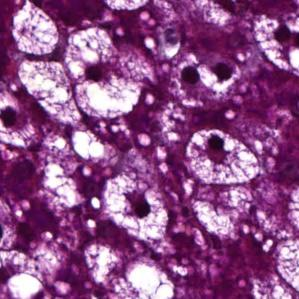ballooning: (61, 23, 146, 121), (102, 173, 171, 244), (184, 127, 262, 188)
